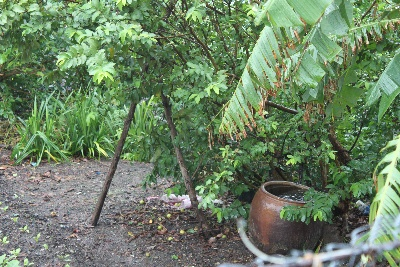bowl: (248, 179, 327, 260)
